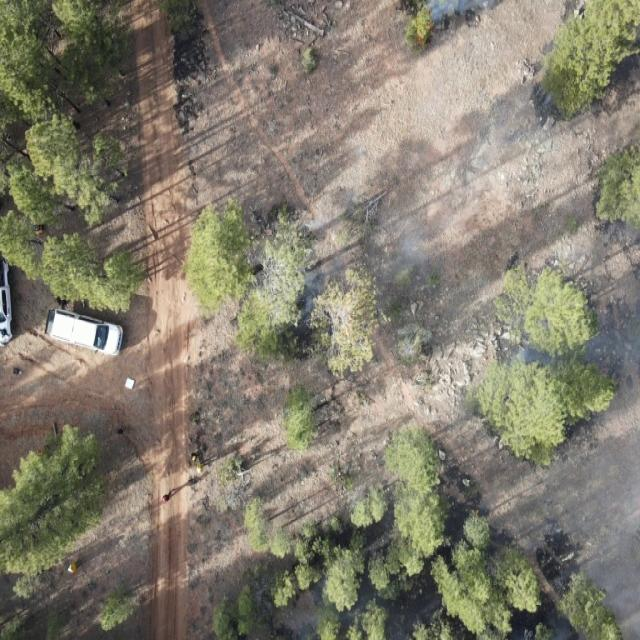fire: (410, 7, 437, 52)
smoke: (250, 204, 454, 370), (504, 290, 640, 430), (533, 527, 640, 640), (296, 570, 412, 640), (576, 217, 640, 288), (421, 0, 498, 29)
